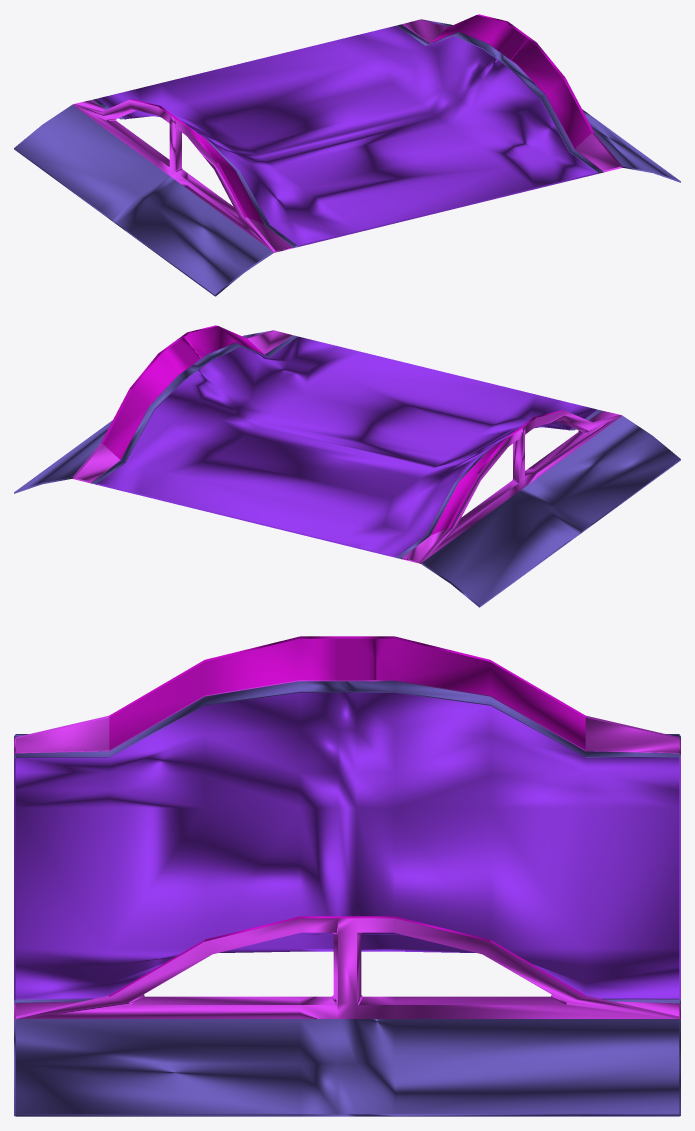
File: RaceTrack_grunge_discount_prop_uee_10.glb
The picture shows the model from 3 angles, top to bottom: view 1: azimuth 30°, elevation 25°; view 2: azimuth 150°, elevation 25°; view 3: azimuth 270°, elevation 25°; orthographic projection. The views are drawn at different scales.
Size of the model in its own units: 8 by 1.5 by 6.
